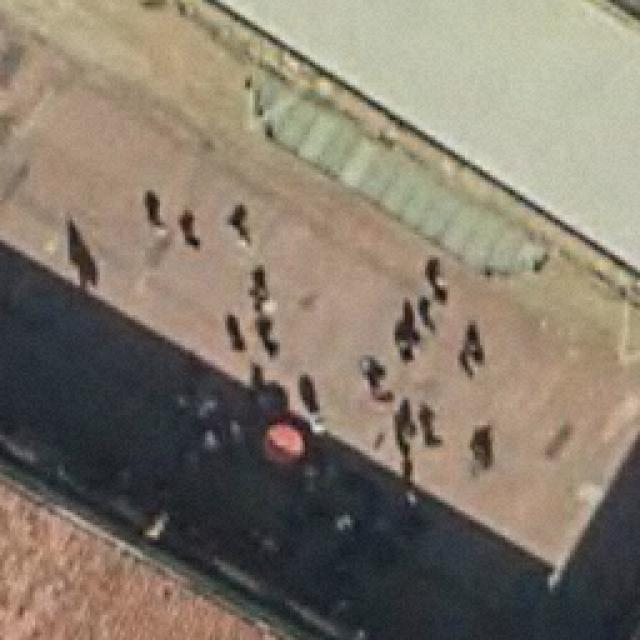vendedor_ambulante: (262, 416, 307, 466)
